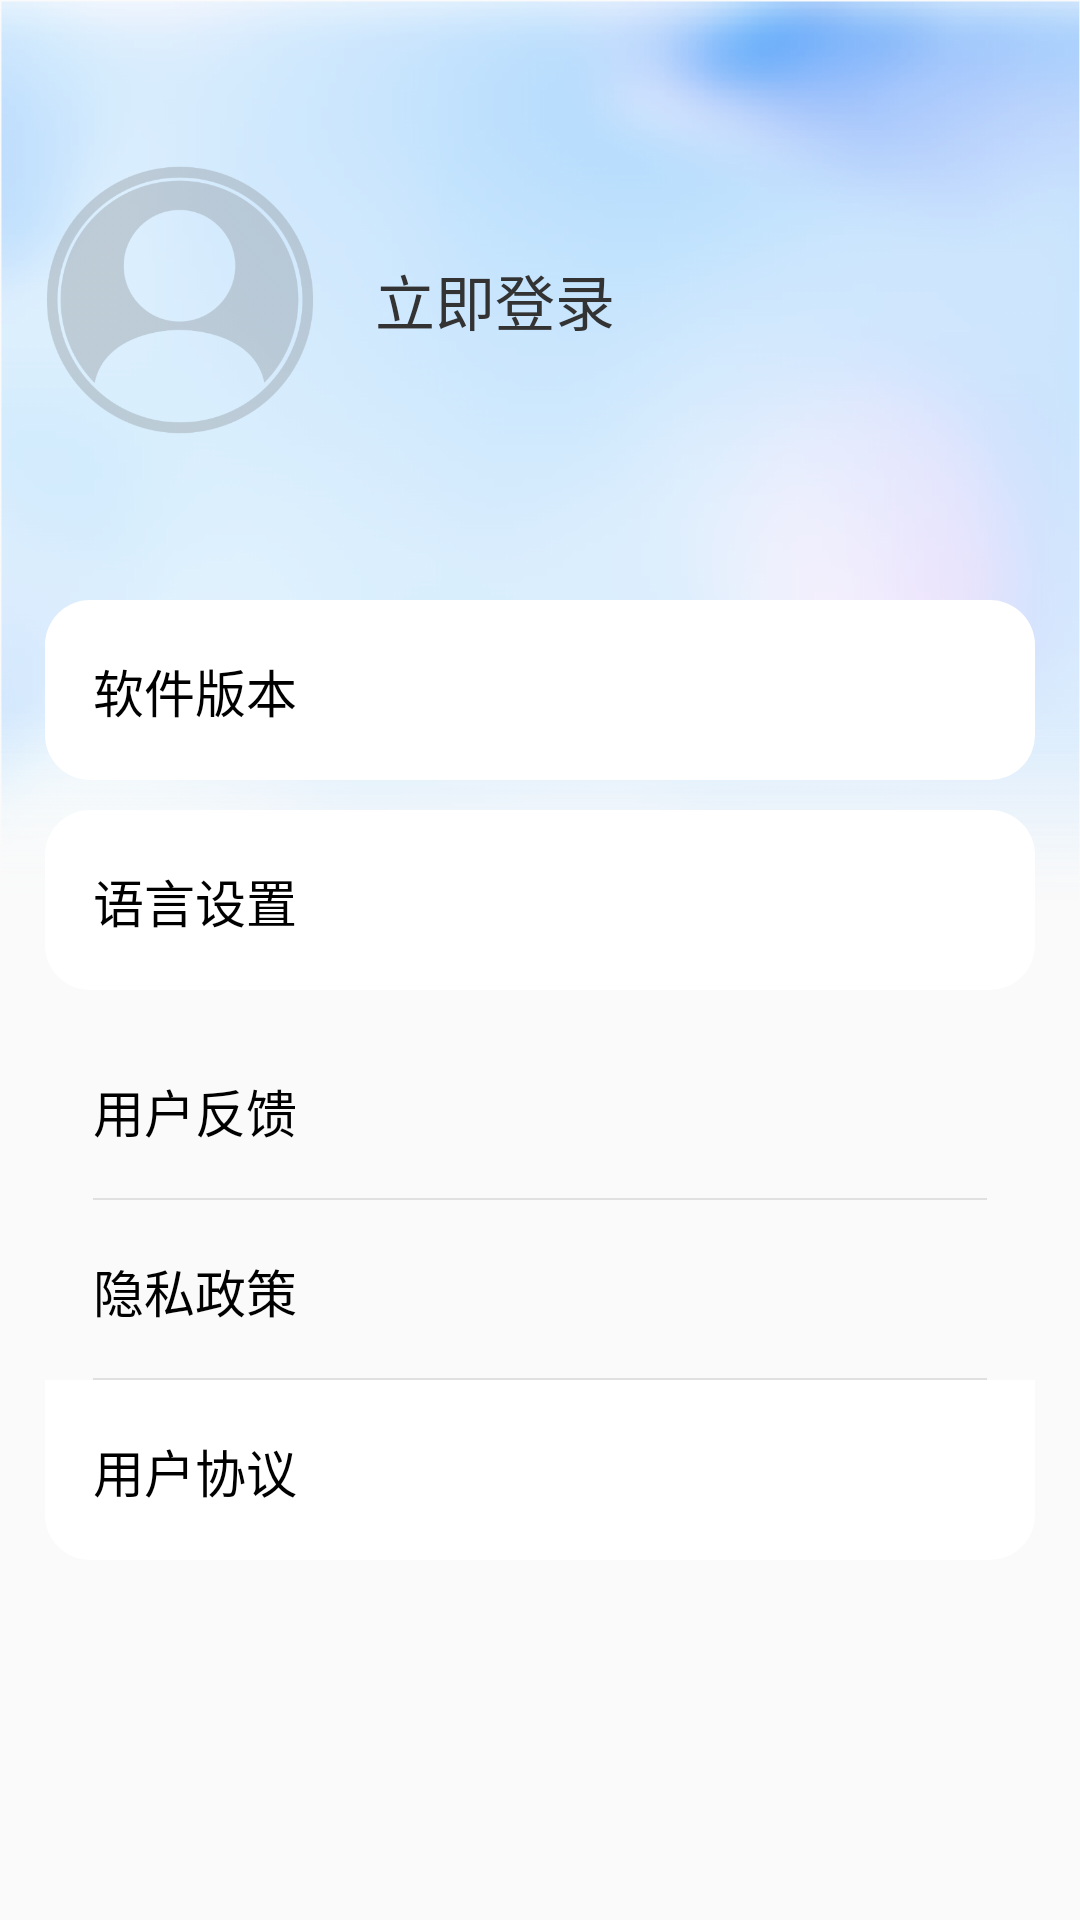

Icons on this 1080px x 1920px Android screen, each with its box as (x1, y1, x2, y2):
no login: (47, 167, 313, 433)
